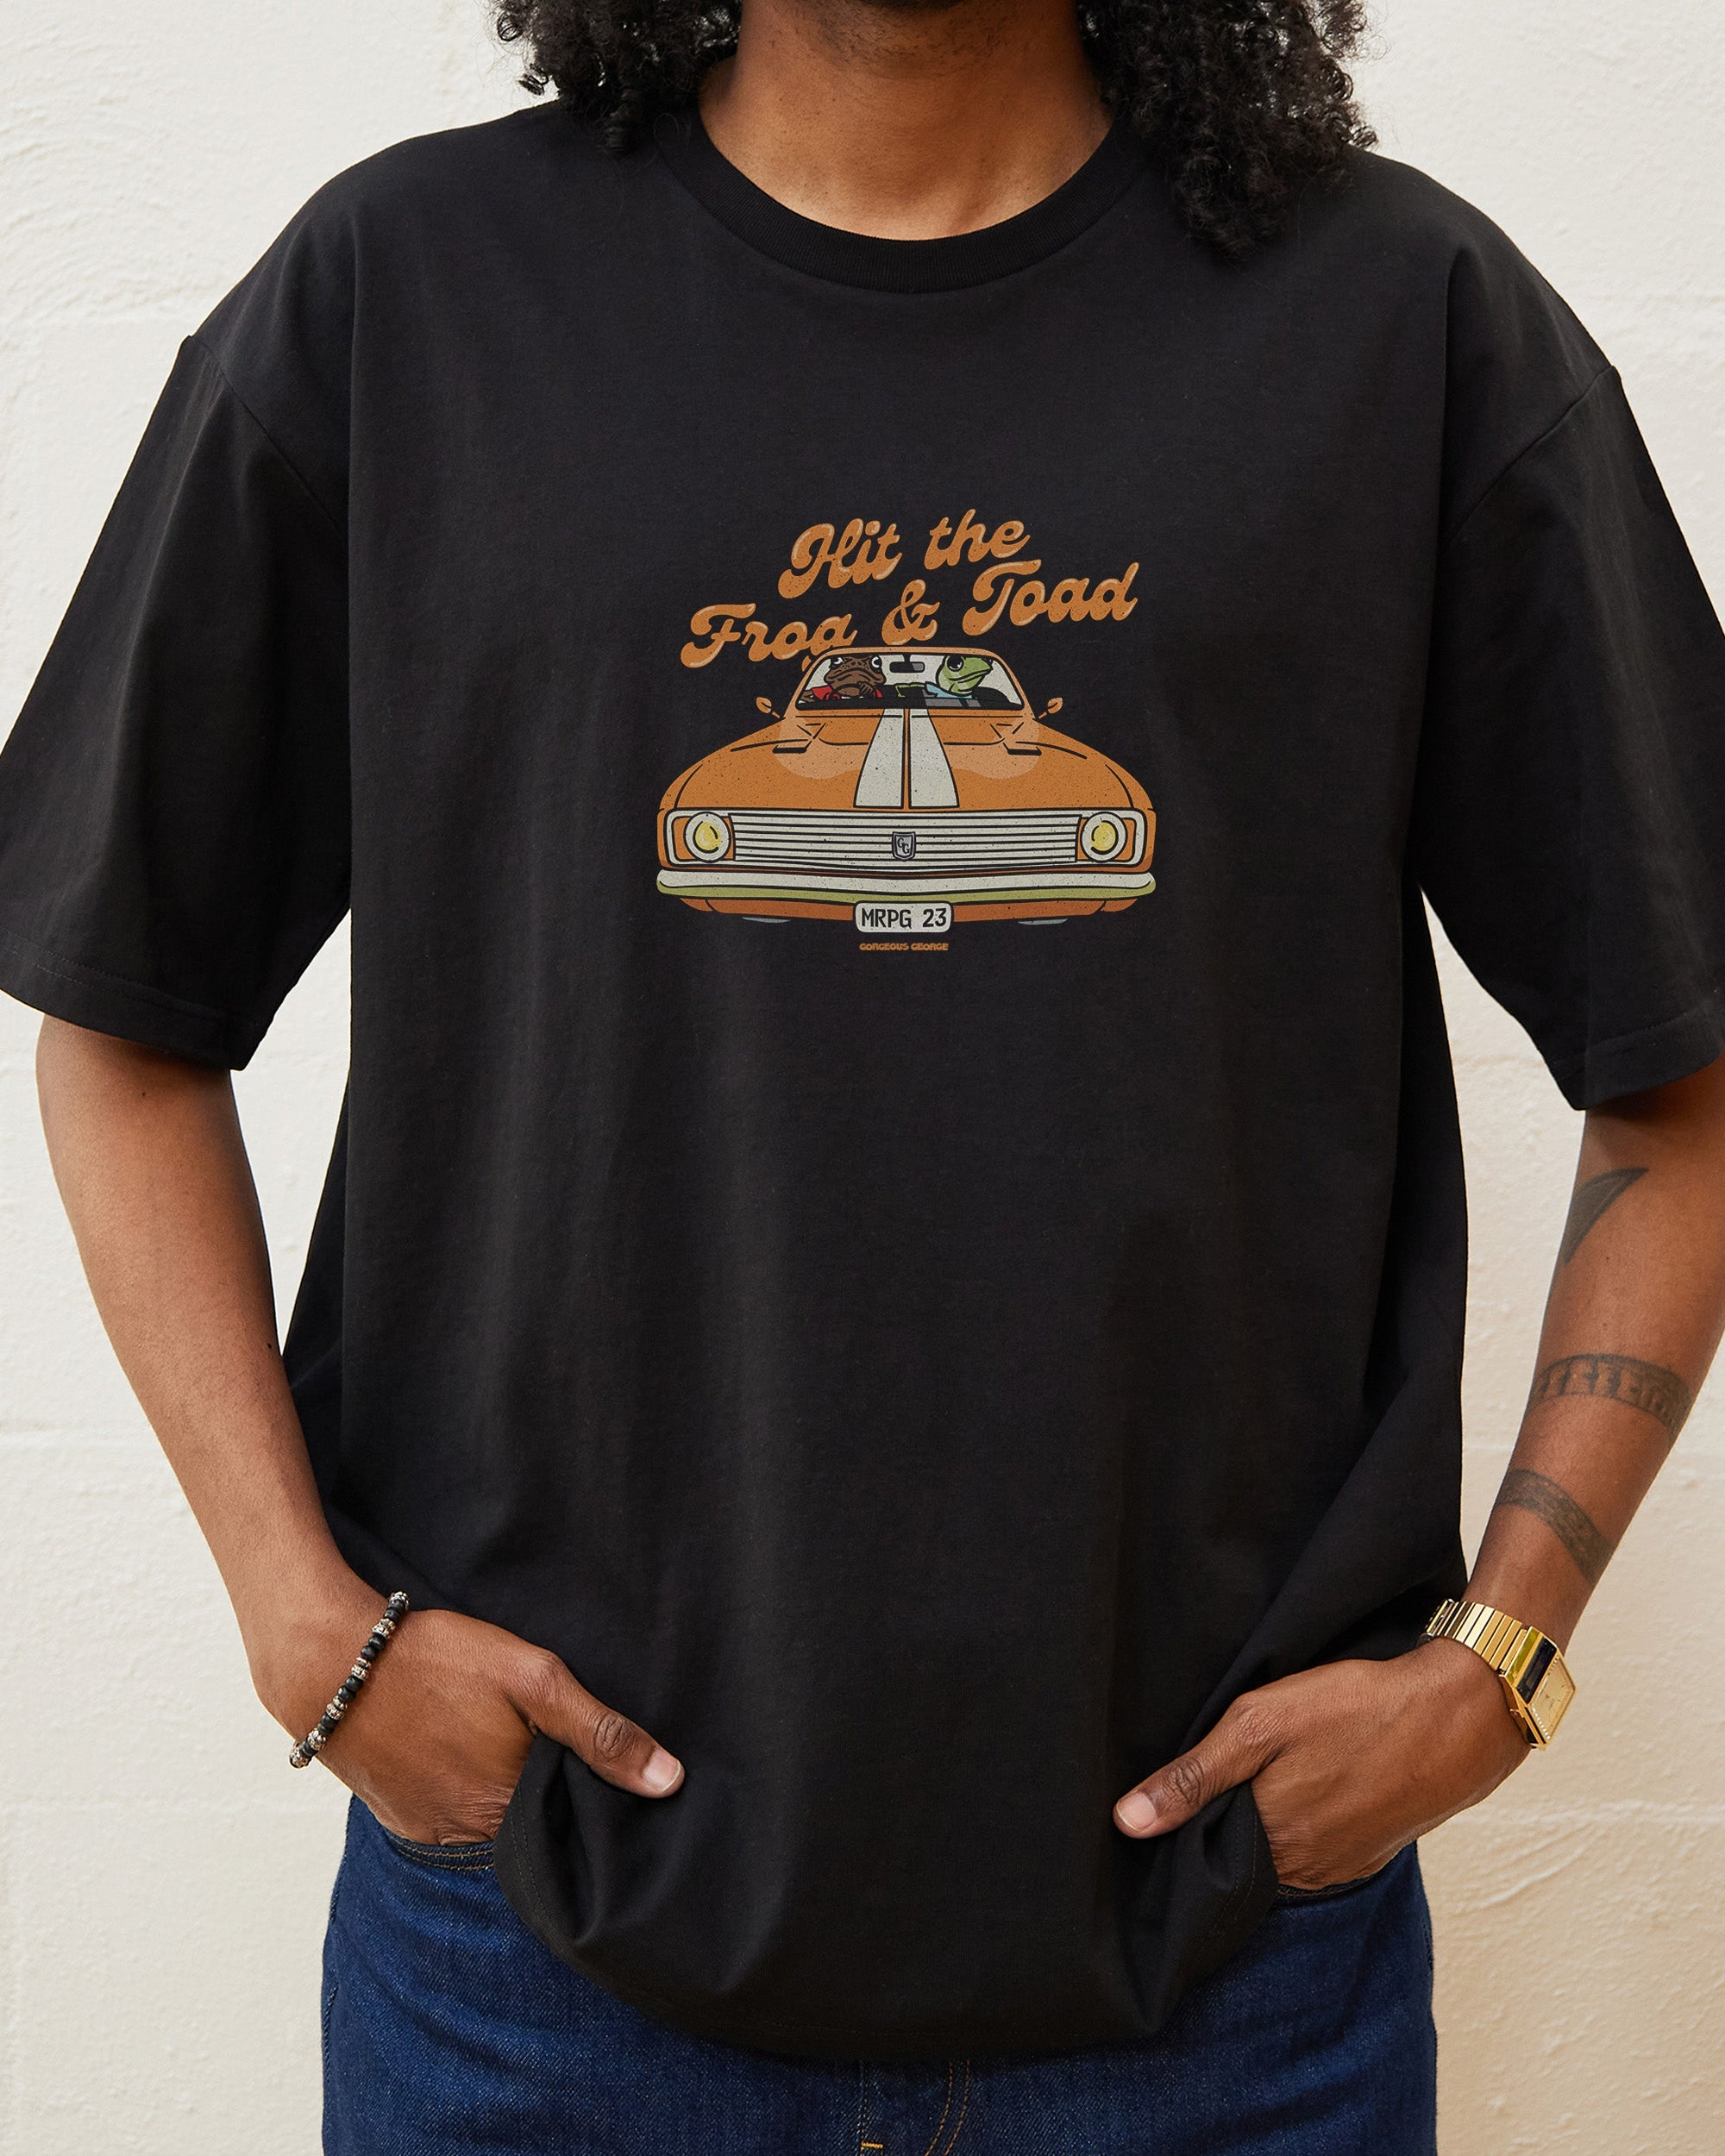design: (639, 493, 1174, 970)
